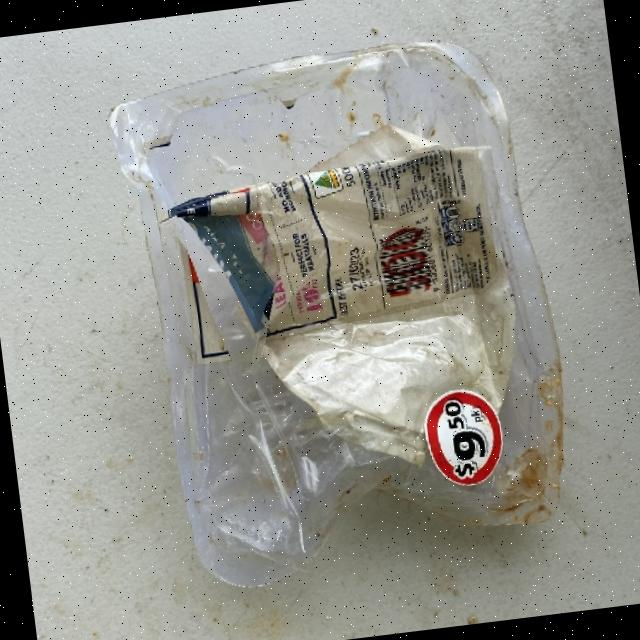plastic: (103, 28, 582, 596)
